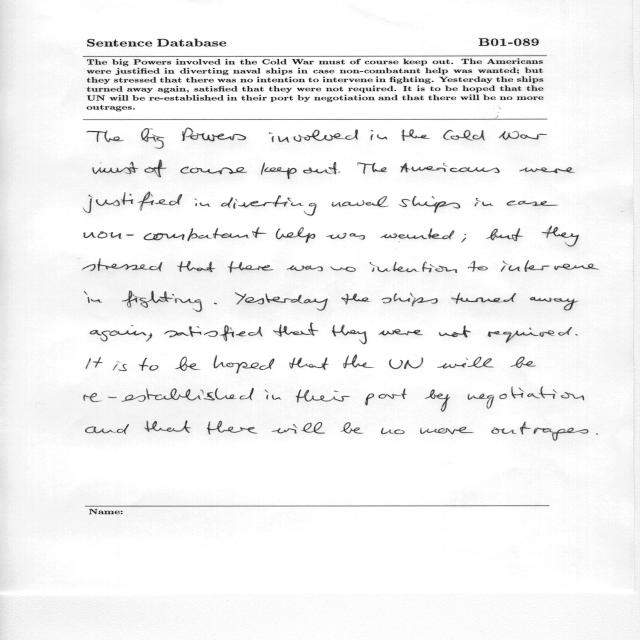word: (84, 227, 267, 241), (468, 387, 584, 409), (84, 388, 254, 402), (84, 192, 183, 213), (221, 195, 317, 216), (491, 422, 589, 441), (235, 292, 328, 311), (122, 291, 202, 312), (488, 327, 572, 343), (189, 325, 263, 341), (501, 260, 599, 272), (214, 355, 275, 374), (269, 130, 358, 143), (90, 325, 152, 342), (399, 196, 460, 213), (381, 229, 455, 243), (401, 163, 500, 173), (370, 262, 458, 273), (82, 259, 162, 271), (182, 128, 246, 141), (381, 293, 438, 306), (542, 226, 579, 246), (451, 293, 516, 304), (365, 389, 407, 406), (296, 390, 350, 403), (207, 421, 257, 435), (331, 325, 367, 344), (437, 357, 494, 369), (273, 323, 319, 337), (272, 422, 325, 434), (276, 227, 315, 243), (530, 297, 578, 310), (332, 196, 388, 207), (261, 163, 297, 179), (144, 421, 191, 433), (425, 390, 450, 412), (93, 162, 138, 174), (228, 261, 273, 273), (289, 357, 329, 370), (141, 128, 164, 149), (486, 228, 523, 241), (181, 167, 248, 174), (443, 130, 485, 141), (499, 131, 547, 140), (420, 427, 474, 435), (86, 424, 129, 434), (303, 162, 338, 174), (177, 261, 215, 272), (439, 325, 471, 338), (389, 357, 423, 369), (87, 131, 124, 142), (343, 355, 374, 368), (144, 160, 167, 177), (357, 162, 387, 174), (176, 356, 200, 371), (401, 129, 430, 141), (519, 167, 575, 173), (341, 294, 370, 305), (510, 357, 536, 368), (326, 233, 365, 240), (378, 329, 423, 335), (341, 422, 363, 434), (506, 201, 558, 206), (139, 358, 158, 371), (468, 261, 488, 272), (287, 266, 323, 272), (85, 291, 103, 303), (86, 357, 103, 369), (165, 331, 190, 338), (371, 130, 388, 140), (264, 390, 281, 400), (330, 266, 356, 272), (475, 198, 494, 206), (195, 198, 211, 207), (381, 428, 405, 434), (113, 362, 127, 372), (461, 234, 467, 243), (214, 303, 217, 305), (575, 334, 578, 336), (596, 433, 598, 435), (338, 172, 340, 173)
